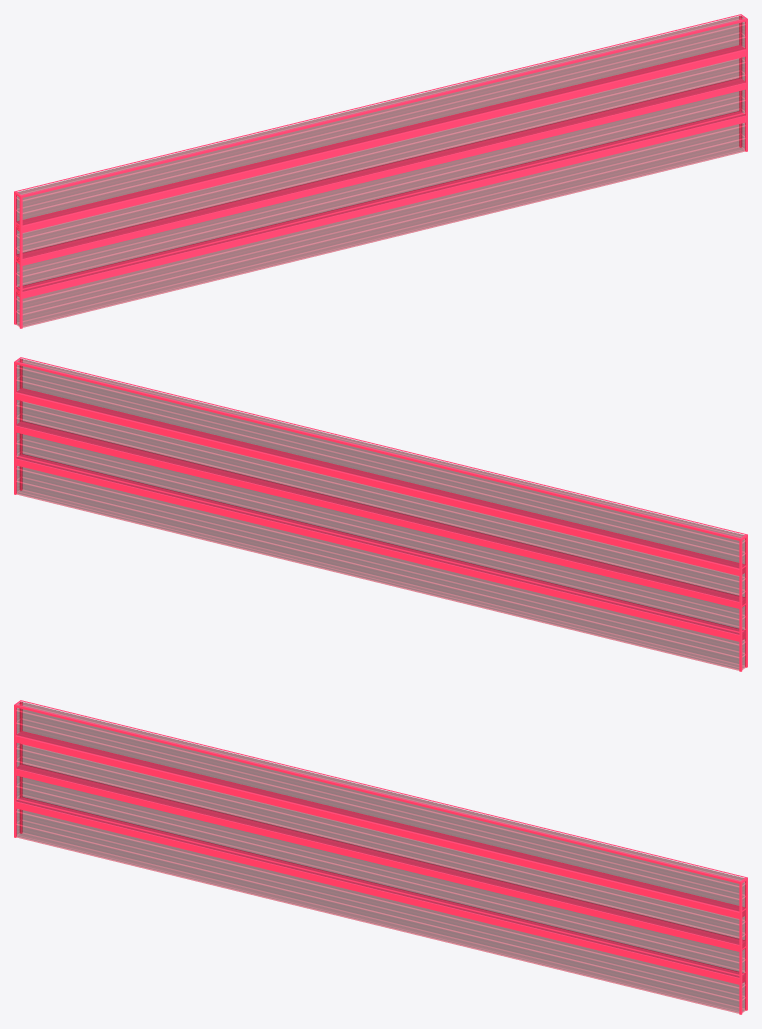
Rendered from kb_gate_rear.glb.
The picture shows the model from 3 angles, top to bottom: view 1: azimuth 30°, elevation 25°; view 2: azimuth 150°, elevation 25°; view 3: azimuth 330°, elevation 25°; orthographic projection.
Visible parts, largest first — view 1: skin; view 2: skin; view 3: skin.
Boxes of the visible parts, <box> form: skin: <box>14,14,747,328</box>; skin: <box>14,357,747,671</box>; skin: <box>14,700,747,1014</box>.
Bounding box in the file's own units: 30.08 × 5.24 × 0.5.
